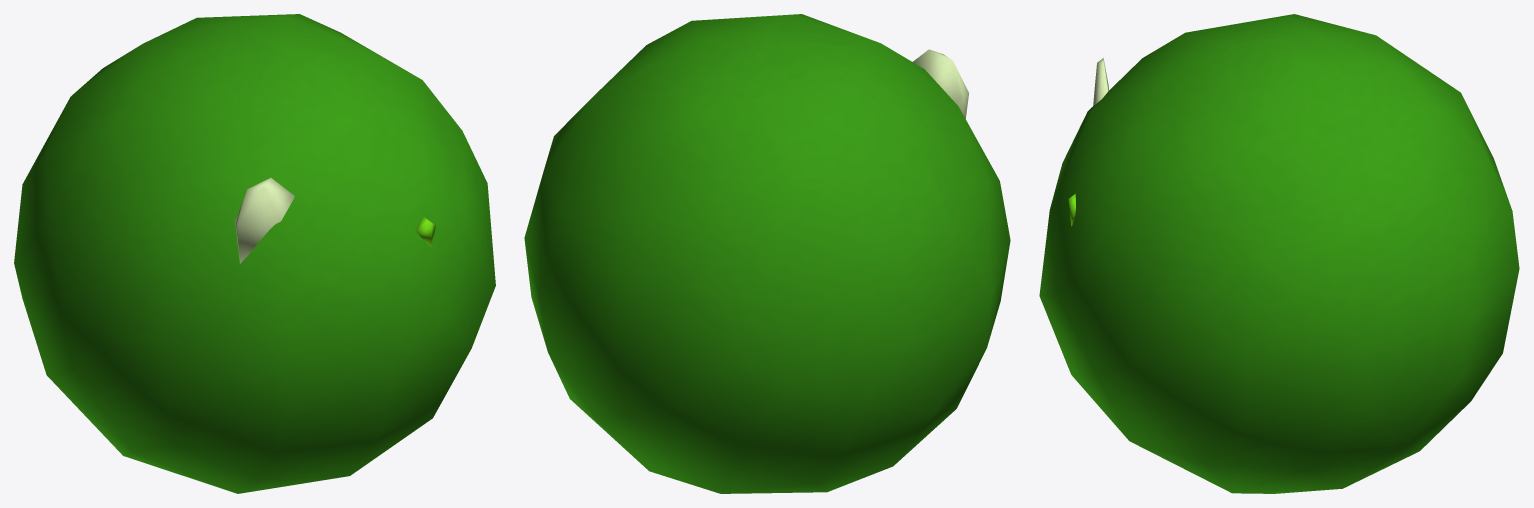
The model's file is SM_toxic_bubble_LOD2.fbx.
3 renders of one model, left to right at view 1: azimuth 30°, elevation 25°; view 2: azimuth 150°, elevation 25°; view 3: azimuth 270°, elevation 25°, orthographic.
Visible parts, largest first — view 1: SM_toxic_bubble_LOD2; view 2: SM_toxic_bubble_LOD2; view 3: SM_toxic_bubble_LOD2.
Boxes of the visible parts, x1=… form: SM_toxic_bubble_LOD2: x1=14, y1=14, x2=495, y2=493; SM_toxic_bubble_LOD2: x1=524, y1=14, x2=1010, y2=493; SM_toxic_bubble_LOD2: x1=1039, y1=14, x2=1519, y2=493.
Size of the model in its own units: 1 by 0.9987 by 0.9996.
